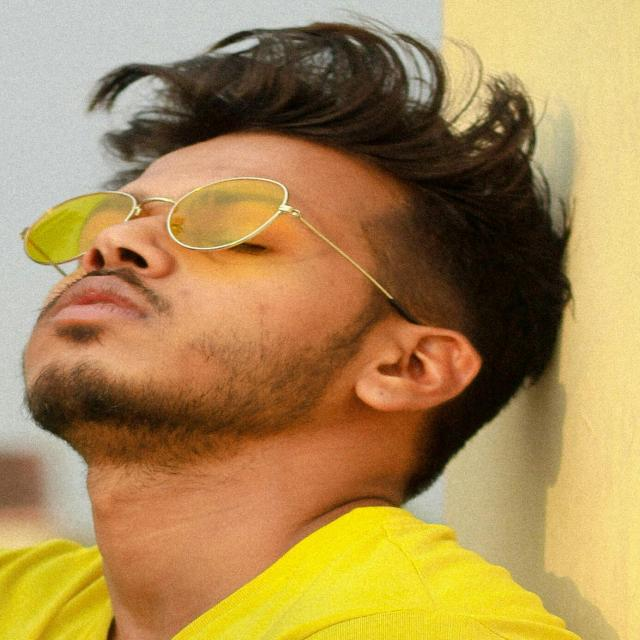front: (62, 180, 319, 392)
